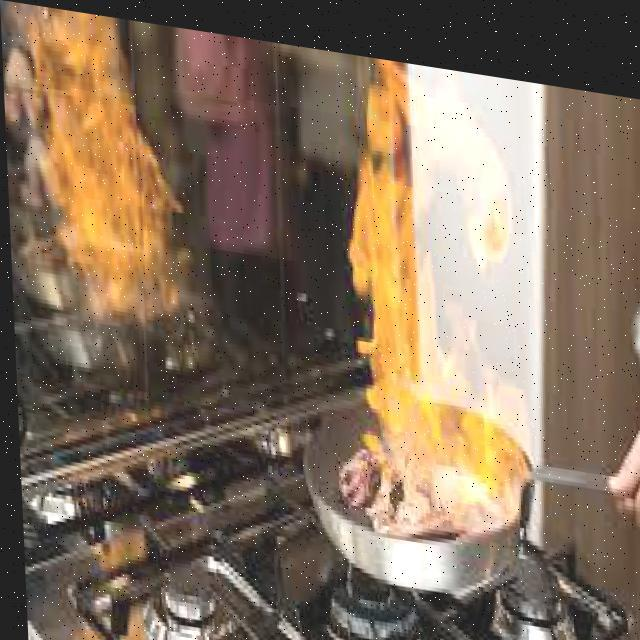Fire: (326, 48, 544, 480), (2, 12, 198, 314)
